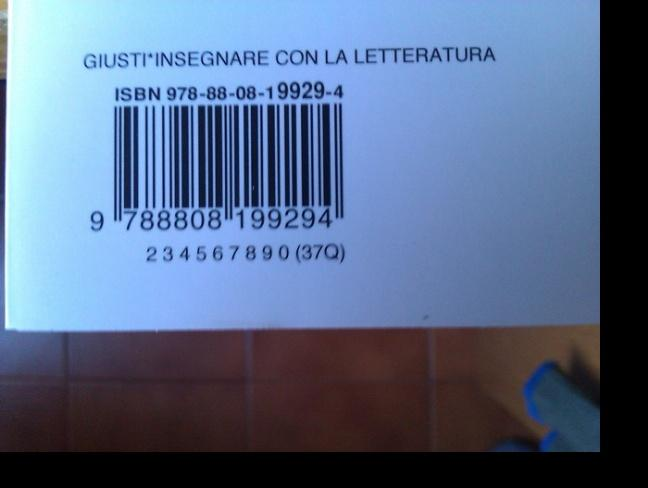Barcode: (86, 99, 350, 237)
